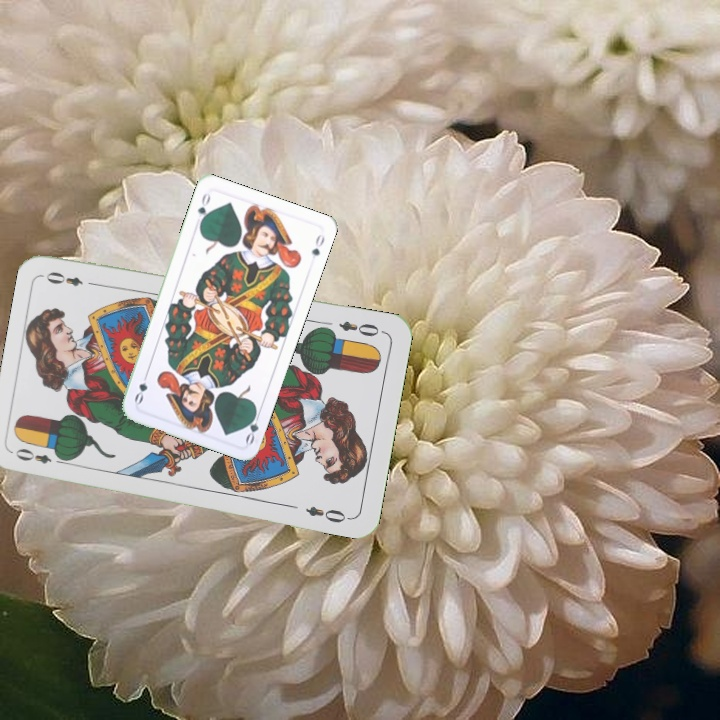EO: (11, 444, 69, 467), (335, 316, 387, 339)
GO: (241, 406, 263, 447), (193, 189, 213, 229)
